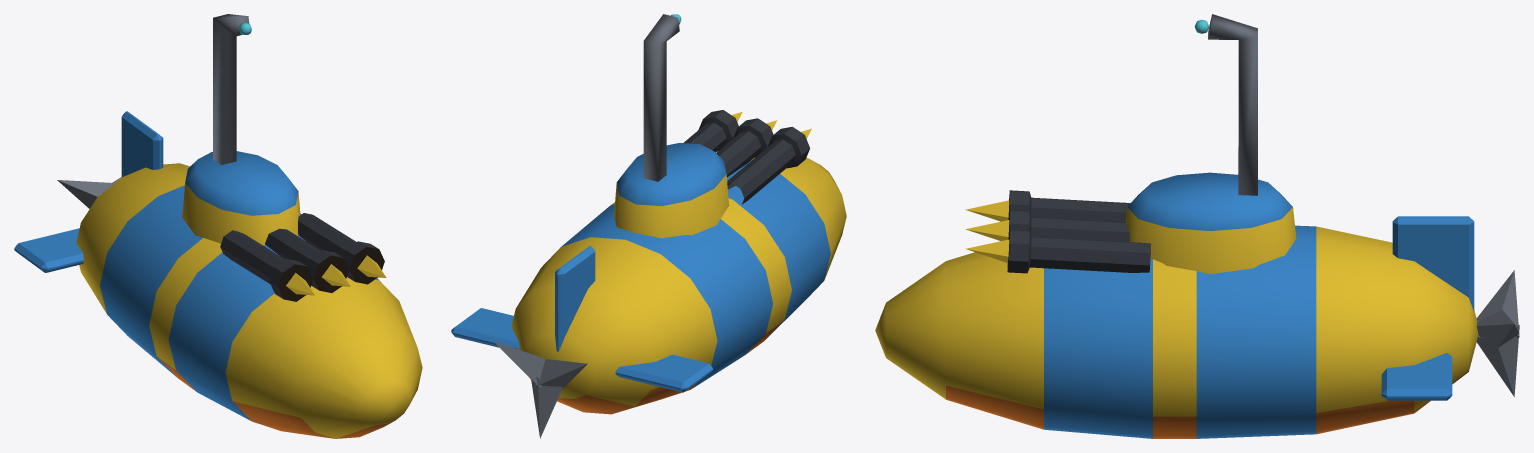
3 renders of one model, left to right at view 1: azimuth 30°, elevation 25°; view 2: azimuth 150°, elevation 25°; view 3: azimuth 270°, elevation 25°, orthographic. The views are drawn at different scales.
Visible parts, largest first — view 1: submarino_0_base, submarino_1_torreta; view 2: submarino_0_base, submarino_1_torreta; view 3: submarino_0_base, submarino_1_torreta.
Boxes of the visible parts, bbox=[...] form: submarino_0_base: bbox=[14, 111, 422, 438]; submarino_1_torreta: bbox=[182, 14, 386, 301]; submarino_0_base: bbox=[451, 157, 846, 438]; submarino_1_torreta: bbox=[614, 14, 811, 238]; submarino_0_base: bbox=[875, 216, 1519, 438]; submarino_1_torreta: bbox=[965, 14, 1296, 273].
Bounding box in the file's own units: 0.58 × 0.8253 × 1.18.
